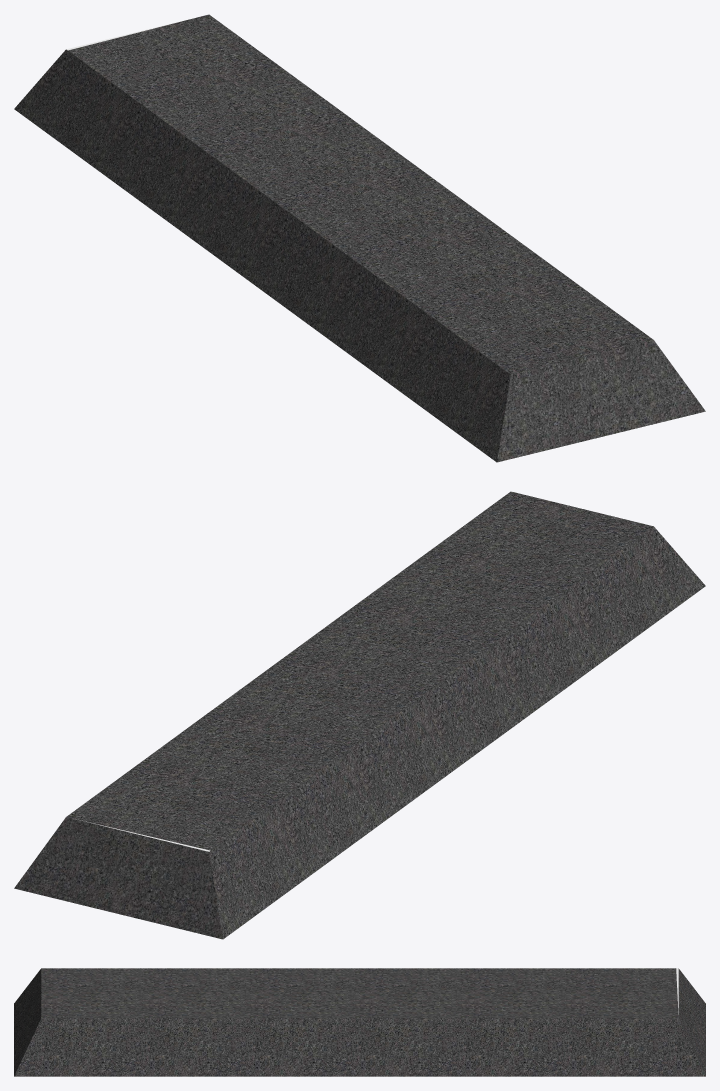
The model's file is step.dae.
3 views of the same model, one above another, from view 1: azimuth 30°, elevation 25°; view 2: azimuth 150°, elevation 25°; view 3: azimuth 270°, elevation 25° (orthographic). The views are drawn at different scales.
Visible parts, largest first — view 1: SketchUp; view 2: SketchUp; view 3: SketchUp.
Part boxes in pixels (<box>): SketchUp: <box>14,14,705,462</box>; SketchUp: <box>14,491,705,939</box>; SketchUp: <box>14,968,705,1076</box>.
Bounding box in the file's own units: 19.69 × 78.74 × 5.91.
